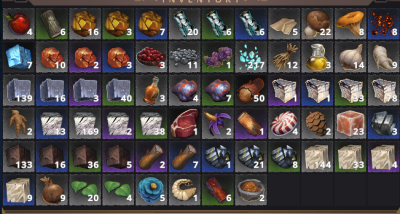ash log: (36, 7, 68, 39)
aurelium ore: (69, 7, 101, 39), (135, 7, 167, 39), (103, 7, 134, 40)
birch log: (201, 8, 234, 40), (169, 8, 200, 40), (235, 8, 267, 39)
chaos ember: (367, 8, 400, 40)
copper ore: (70, 41, 102, 74), (35, 41, 69, 72), (102, 41, 134, 72)
ethereal dust: (234, 41, 267, 72)
granite stone: (2, 73, 35, 106), (35, 74, 68, 106), (70, 74, 101, 106), (102, 74, 134, 105)
iron ore: (169, 74, 201, 105), (201, 74, 233, 105)
limestone stone: (267, 73, 300, 106), (367, 73, 399, 106), (301, 74, 333, 106), (334, 74, 367, 105)
marble stone: (69, 107, 102, 139), (35, 108, 68, 139), (102, 108, 135, 139), (136, 107, 167, 139)
oak log: (234, 107, 267, 139)
silver ore: (367, 107, 400, 138)
slate stone: (2, 140, 35, 172), (102, 140, 135, 172), (35, 141, 68, 172), (70, 141, 101, 172)
spruce log: (135, 140, 168, 172), (169, 140, 201, 172)
tin ore: (234, 140, 267, 172), (201, 141, 234, 172), (268, 141, 301, 172)
travertine stone: (2, 173, 35, 206), (301, 140, 334, 172), (335, 140, 367, 173), (368, 141, 400, 172)
yew log: (201, 174, 234, 206)
